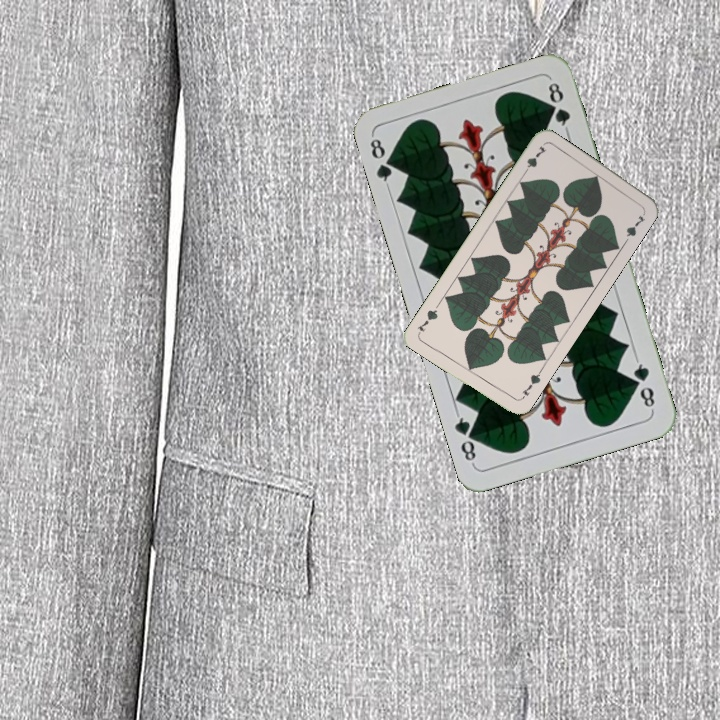G7: (519, 141, 549, 178), (516, 366, 544, 402)
G8: (365, 132, 400, 190), (629, 355, 657, 413)
